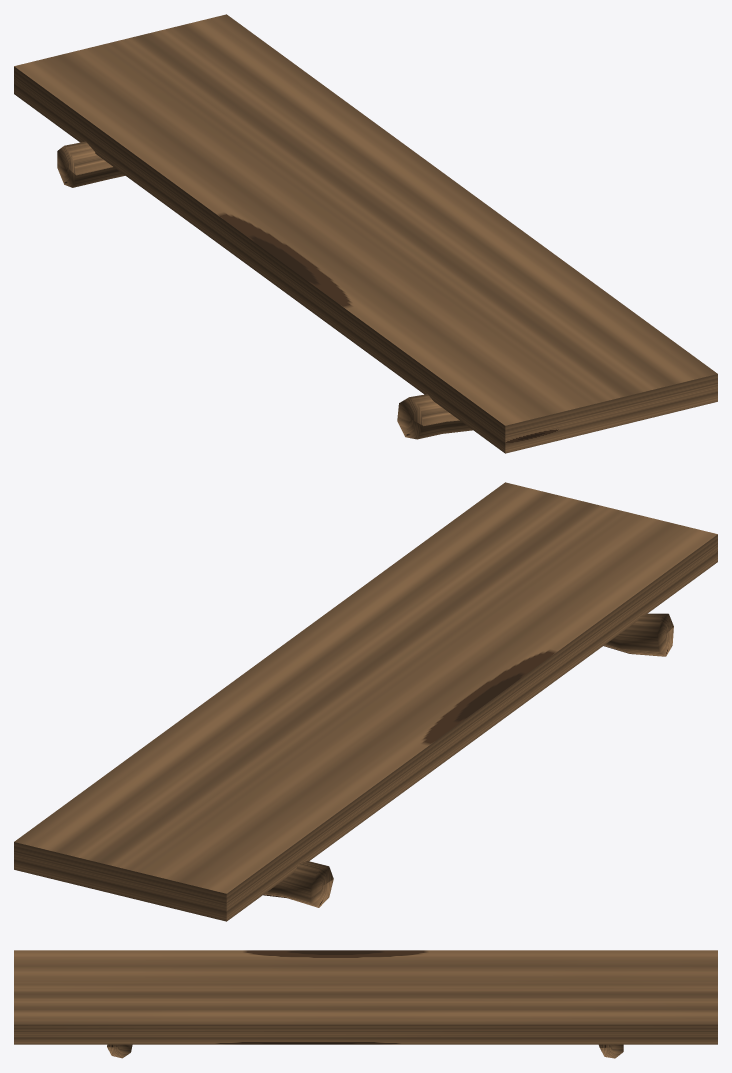
Rendered from prateleira.gltf.
The picture shows the model from 3 angles, top to bottom: view 1: azimuth 30°, elevation 25°; view 2: azimuth 150°, elevation 25°; view 3: azimuth 270°, elevation 25°; orthographic projection. The views are drawn at different scales.
Parts seen in each view (by area): view 1: Tabua, Cavilha1, Cavilha0; view 2: Tabua, Cavilha1, Cavilha0; view 3: Tabua, Cavilha0, Cavilha1.
Part boxes in pixels (x1,y1,x2,y2): Tabua: (14,14,717,453); Cavilha1: (397,394,472,439); Cavilha0: (57,141,125,187); Tabua: (14,482,717,921); Cavilha1: (604,613,673,656); Cavilha0: (263,861,333,907); Tabua: (14,950,717,1044); Cavilha0: (599,1044,623,1058); Cavilha1: (107,1044,132,1058).
Bounding box in the file's own units: 0.2231 × 0.0596 × 0.8.
Materials: 1 (1 with a texture image).
